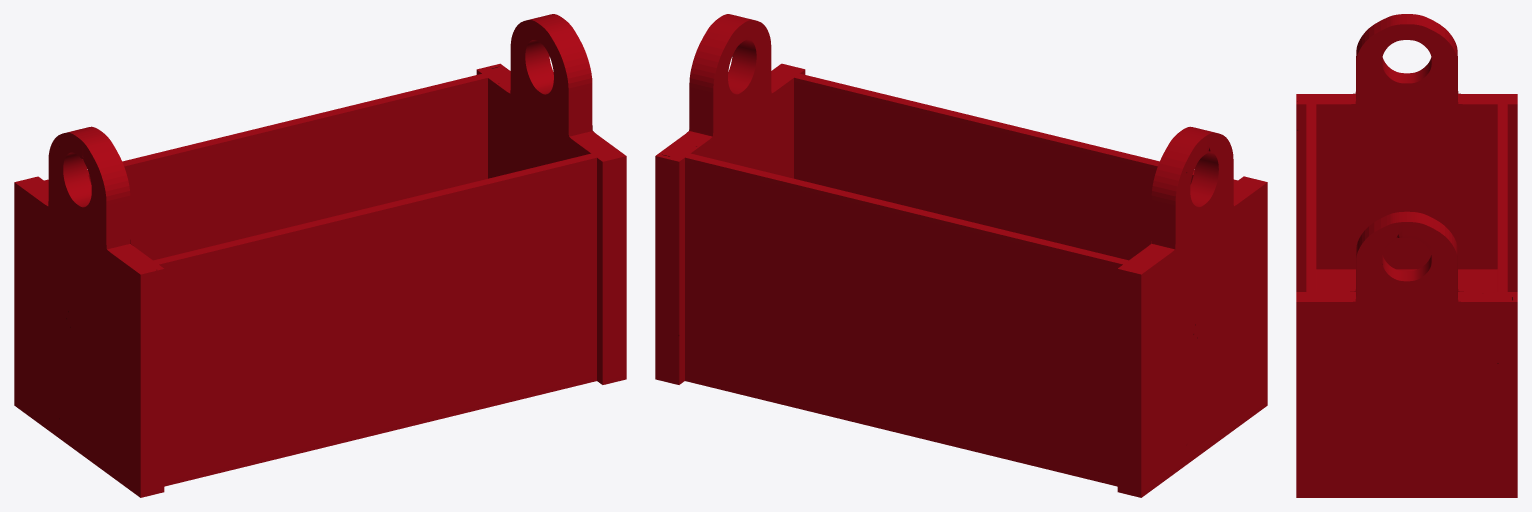
The model's file is S_Toolbox.fbx.
3 views of the same model, side by side, from view 1: azimuth 30°, elevation 25°; view 2: azimuth 150°, elevation 25°; view 3: azimuth 270°, elevation 25° (orthographic). The views are drawn at different scales.
Parts seen in each view (by area): view 1: Toolkit; view 2: Toolkit; view 3: Toolkit.
Part boxes in pixels (x1,y1,x2,y2): Toolkit: [14, 14, 626, 497]; Toolkit: [655, 14, 1267, 497]; Toolkit: [1296, 14, 1517, 497].
Bounding box in the file's own units: 0.2894 × 0.1791 × 0.1302.
